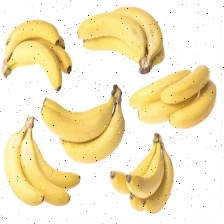banana: (42, 38, 201, 196)
